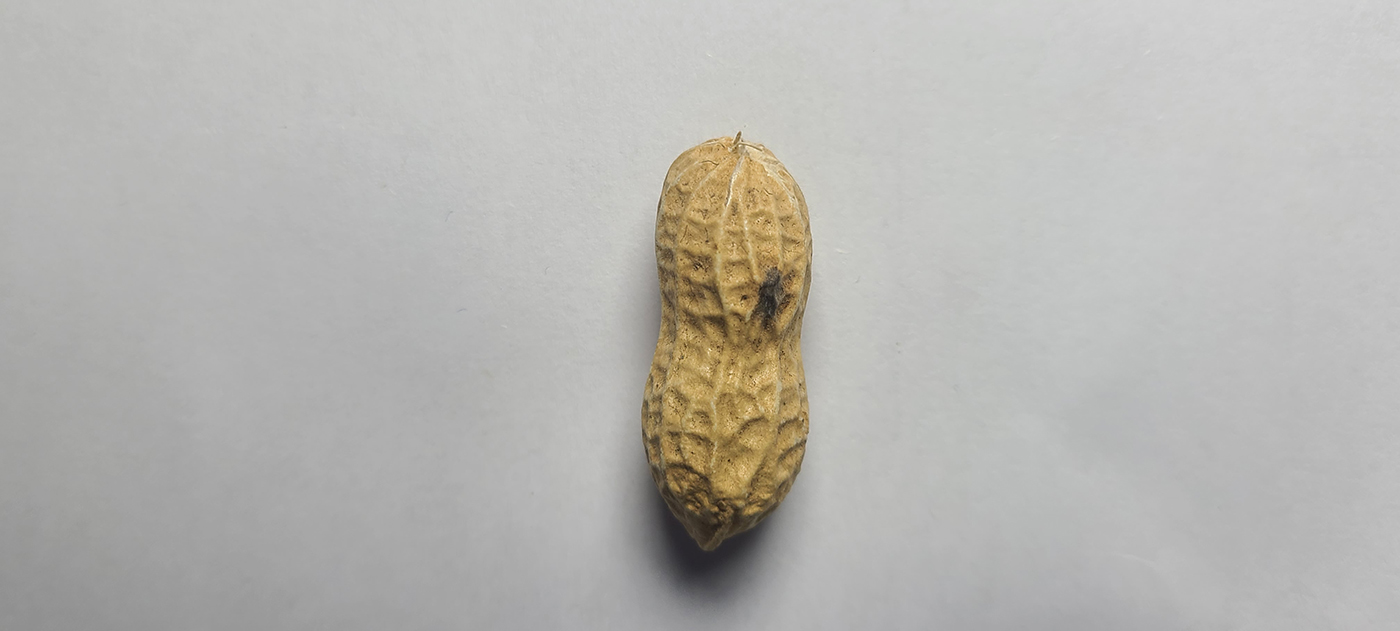h: (643, 133, 816, 555)
